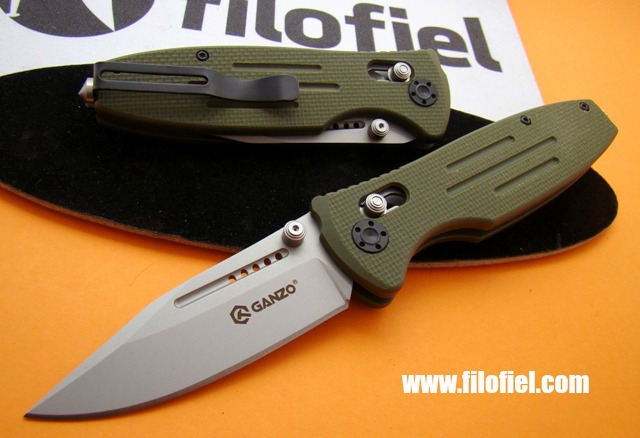knife: (16, 209, 362, 430)
